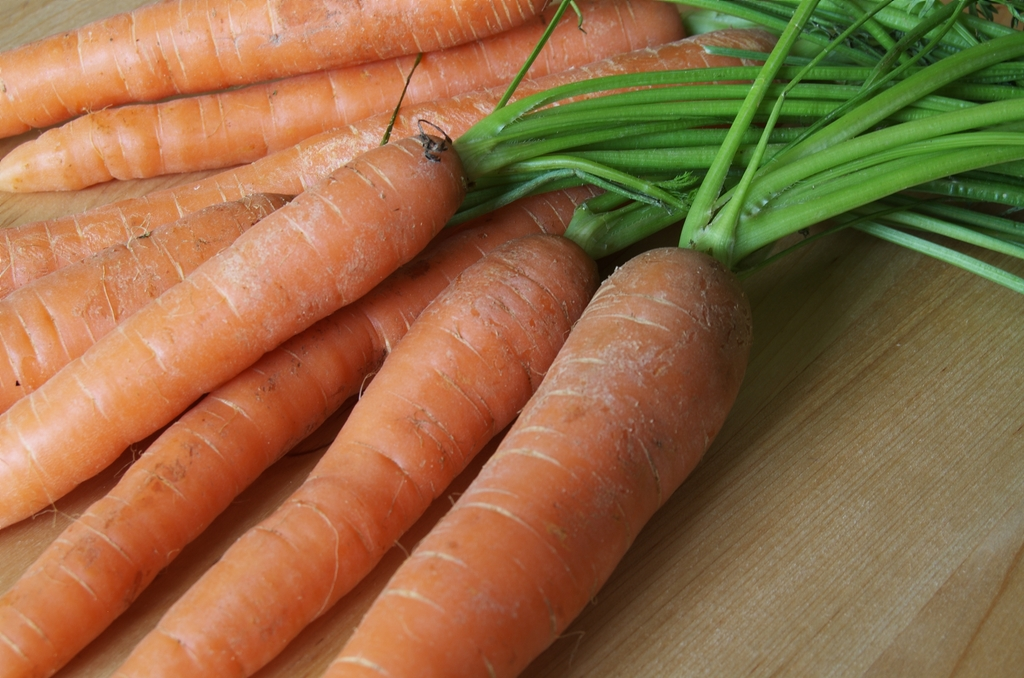Carrot: (0, 0, 1024, 678)
